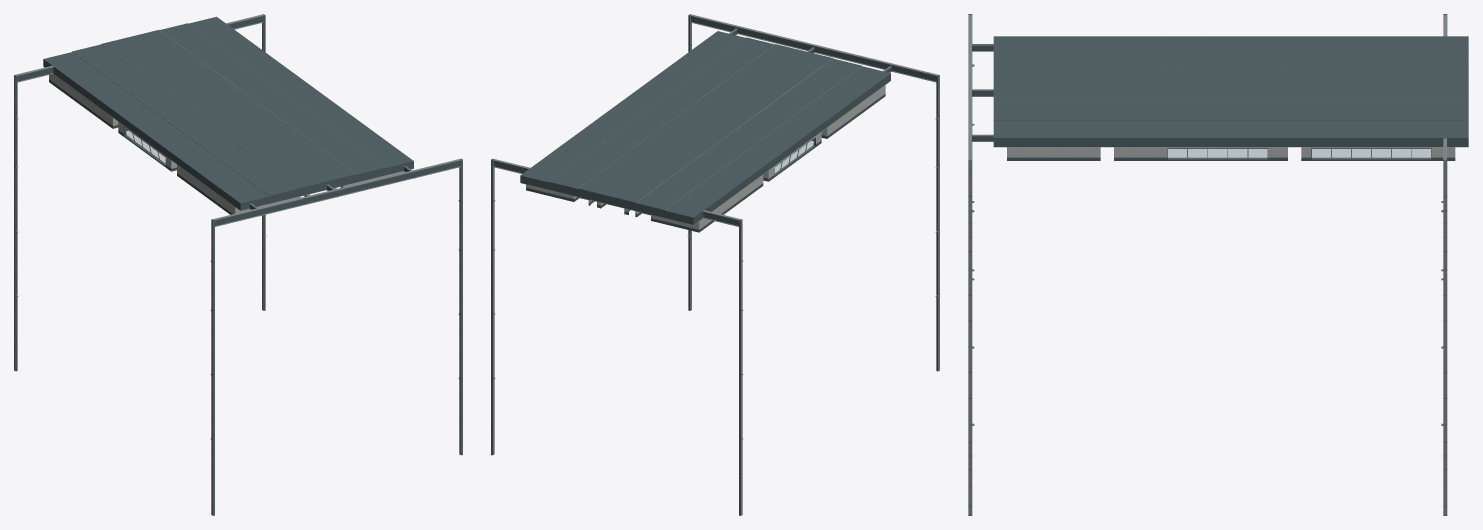
The model's file is AST-CMD-001.glb.
3 renders of one model, left to right at view 1: azimuth 30°, elevation 25°; view 2: azimuth 150°, elevation 25°; view 3: azimuth 270°, elevation 25°, orthographic. The views are drawn at different scales.
Parts seen in each view (by area): view 1: CMD_CELL_X-3_Y9_Z-2_ASTRAEA_staff_bluegrey_paint, CMD_CELL_X-3_Y9_Z-1_ASTRAEA_staff_bluegrey_paint, CMD_CELL_X-3_Y9_Z0_ASTRAEA_staff_bluegrey_paint, CMD_CELL_X-1_Y9_Z5_ASTRAEA_staff_bluegrey_paint, CMD_CELL_X-3_Y9_Z4_ASTRAEA_staff_bluegrey_paint, CMD_CELL_X-3_Y9_Z5_ASTRAEA_staff_bluegrey_paint, CMD_CELL_X-3_Y9_Z1_ASTRAEA_staff_bluegrey_paint, CMD_CELL_X-3_Y9_Z-3_ASTRAEA_staff_bluegrey_paint, CMD_CELL_X-3_Y9_Z-5_ASTRAEA_staff_bluegrey_paint, CMD_CELL_X-3_Y9_Z-4_ASTRAEA_staff_bluegrey_paint, CMD_CELL_X-3_Y9_Z2_ASTRAEA_staff_bluegrey_paint, CMD_CELL_X-3_Y9_Z3_ASTRAEA_staff_bluegrey_paint (+5 smaller); view 2: CMD_CELL_X-3_Y9_Z-1_ASTRAEA_staff_bluegrey_paint, CMD_CELL_X-3_Y9_Z0_ASTRAEA_staff_bluegrey_paint, CMD_CELL_X-3_Y9_Z-2_ASTRAEA_staff_bluegrey_paint, CMD_CELL_X-3_Y9_Z-5_ASTRAEA_staff_bluegrey_paint, CMD_CELL_X-3_Y9_Z2_ASTRAEA_staff_bluegrey_paint, CMD_CELL_X-3_Y9_Z1_ASTRAEA_staff_bluegrey_paint, CMD_CELL_X-3_Y9_Z4_ASTRAEA_staff_bluegrey_paint, CMD_CELL_X-3_Y9_Z-4_ASTRAEA_staff_bluegrey_paint, CMD_CELL_X-3_Y9_Z-3_ASTRAEA_staff_bluegrey_paint, CMD_CELL_X-3_Y9_Z3_ASTRAEA_staff_bluegrey_paint, CMD_CELL_X-3_Y9_Z-6_ASTRAEA_staff_bluegrey_paint, CMD_CELL_X-3_Y9_Z-7_ASTRAEA_staff_bluegrey_paint; view 3: CMD_CELL_X2_Y9_Z0_ASTRAEA_staff_bluegrey_paint, CMD_CELL_X2_Y9_Z-1_ASTRAEA_staff_bluegrey_paint, CMD_CELL_X2_Y9_Z-5_ASTRAEA_staff_bluegrey_paint, CMD_CELL_X2_Y9_Z-4_ASTRAEA_staff_bluegrey_paint, CMD_CELL_X2_Y9_Z-3_ASTRAEA_staff_bluegrey_paint, CMD_CELL_X2_Y9_Z-6_ASTRAEA_staff_bluegrey_paint, CMD_CELL_X2_Y9_Z-2_ASTRAEA_staff_bluegrey_paint, CMD_CELL_X2_Y9_Z1_ASTRAEA_staff_bluegrey_paint, CMD_CELL_X2_Y9_Z2_ASTRAEA_staff_bluegrey_paint, CMD_CELL_X2_Y9_Z3_ASTRAEA_staff_bluegrey_paint, CMD_CELL_X2_Y9_Z4_ASTRAEA_staff_bluegrey_paint, CMD_CELL_X1_Y9_Z-6_ASTRAEA_staff_bluegrey_paint (+54 smaller).
Boxes of the visible parts, bbox=[...] form: CMD_CELL_X-3_Y9_Z-2_ASTRAEA_staff_bluegrey_paint: bbox=[118, 107, 163, 141]; CMD_CELL_X-3_Y9_Z-1_ASTRAEA_staff_bluegrey_paint: bbox=[135, 119, 179, 153]; CMD_CELL_X-3_Y9_Z0_ASTRAEA_staff_bluegrey_paint: bbox=[151, 131, 196, 159]; CMD_CELL_X-1_Y9_Z5_ASTRAEA_staff_bluegrey_paint: bbox=[293, 177, 337, 202]; CMD_CELL_X-3_Y9_Z4_ASTRAEA_staff_bluegrey_paint: bbox=[218, 180, 263, 206]; CMD_CELL_X-3_Y9_Z5_ASTRAEA_staff_bluegrey_paint: bbox=[235, 192, 279, 217]; CMD_CELL_X-3_Y9_Z1_ASTRAEA_staff_bluegrey_paint: bbox=[168, 143, 213, 169]; CMD_CELL_X-3_Y9_Z-3_ASTRAEA_staff_bluegrey_paint: bbox=[101, 95, 146, 120]; CMD_CELL_X-3_Y9_Z-5_ASTRAEA_staff_bluegrey_paint: bbox=[68, 70, 113, 96]; CMD_CELL_X-3_Y9_Z-4_ASTRAEA_staff_bluegrey_paint: bbox=[85, 82, 129, 108]; CMD_CELL_X-3_Y9_Z2_ASTRAEA_staff_bluegrey_paint: bbox=[185, 156, 229, 181]; CMD_CELL_X-3_Y9_Z3_ASTRAEA_staff_bluegrey_paint: bbox=[202, 168, 246, 194]; CMD_CELL_X-3_Y9_Z-1_ASTRAEA_staff_bluegrey_paint: bbox=[757, 131, 802, 163]; CMD_CELL_X-3_Y9_Z0_ASTRAEA_staff_bluegrey_paint: bbox=[774, 119, 818, 151]; CMD_CELL_X-3_Y9_Z-2_ASTRAEA_staff_bluegrey_paint: bbox=[740, 143, 785, 176]; CMD_CELL_X-3_Y9_Z-5_ASTRAEA_staff_bluegrey_paint: bbox=[690, 180, 735, 206]; CMD_CELL_X-3_Y9_Z2_ASTRAEA_staff_bluegrey_paint: bbox=[807, 95, 852, 120]; CMD_CELL_X-3_Y9_Z1_ASTRAEA_staff_bluegrey_paint: bbox=[790, 107, 835, 132]; CMD_CELL_X-3_Y9_Z4_ASTRAEA_staff_bluegrey_paint: bbox=[840, 70, 885, 96]; CMD_CELL_X-3_Y9_Z-4_ASTRAEA_staff_bluegrey_paint: bbox=[707, 168, 751, 194]; CMD_CELL_X-3_Y9_Z-3_ASTRAEA_staff_bluegrey_paint: bbox=[724, 156, 768, 181]; CMD_CELL_X-3_Y9_Z3_ASTRAEA_staff_bluegrey_paint: bbox=[824, 82, 868, 108]; CMD_CELL_X-3_Y9_Z-6_ASTRAEA_staff_bluegrey_paint: bbox=[674, 192, 718, 218]; CMD_CELL_X-3_Y9_Z-7_ASTRAEA_staff_bluegrey_paint: bbox=[665, 204, 701, 224]; CMD_CELL_X2_Y9_Z0_ASTRAEA_staff_bluegrey_paint: bbox=[1167, 121, 1207, 159]; CMD_CELL_X2_Y9_Z-1_ASTRAEA_staff_bluegrey_paint: bbox=[1207, 121, 1248, 157]; CMD_CELL_X2_Y9_Z-5_ASTRAEA_staff_bluegrey_paint: bbox=[1368, 121, 1408, 158]; CMD_CELL_X2_Y9_Z-4_ASTRAEA_staff_bluegrey_paint: bbox=[1328, 121, 1368, 158]; CMD_CELL_X2_Y9_Z-3_ASTRAEA_staff_bluegrey_paint: bbox=[1288, 121, 1328, 159]; CMD_CELL_X2_Y9_Z-6_ASTRAEA_staff_bluegrey_paint: bbox=[1408, 121, 1448, 159]; CMD_CELL_X2_Y9_Z-2_ASTRAEA_staff_bluegrey_paint: bbox=[1248, 121, 1287, 159]; CMD_CELL_X2_Y9_Z1_ASTRAEA_staff_bluegrey_paint: bbox=[1127, 121, 1167, 146]; CMD_CELL_X2_Y9_Z2_ASTRAEA_staff_bluegrey_paint: bbox=[1087, 121, 1127, 146]; CMD_CELL_X2_Y9_Z3_ASTRAEA_staff_bluegrey_paint: bbox=[1047, 121, 1087, 146]; CMD_CELL_X2_Y9_Z4_ASTRAEA_staff_bluegrey_paint: bbox=[1007, 121, 1047, 146]; CMD_CELL_X1_Y9_Z-6_ASTRAEA_staff_bluegrey_paint: bbox=[1408, 103, 1448, 120].
Bounding box in the file's own units: 104 × 118 × 150.
8 materials, 7 textured.
